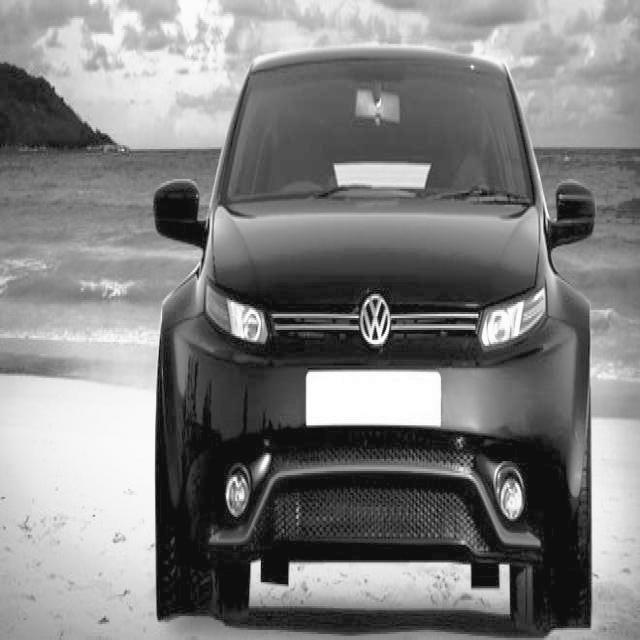Car: (155, 43, 589, 627)
